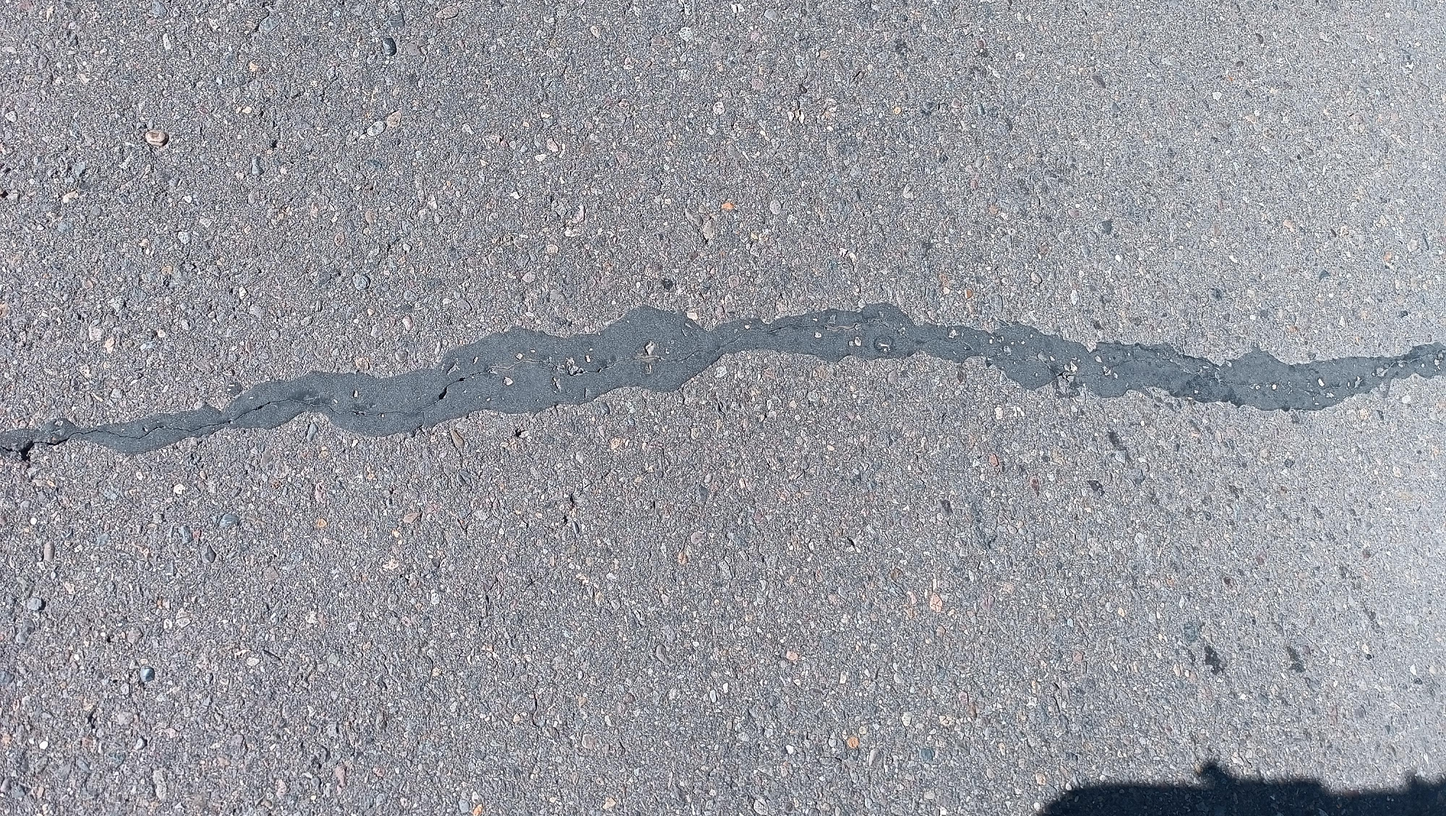GRIETA: (45, 376, 467, 446)
PARCHE: (0, 304, 1446, 458)
